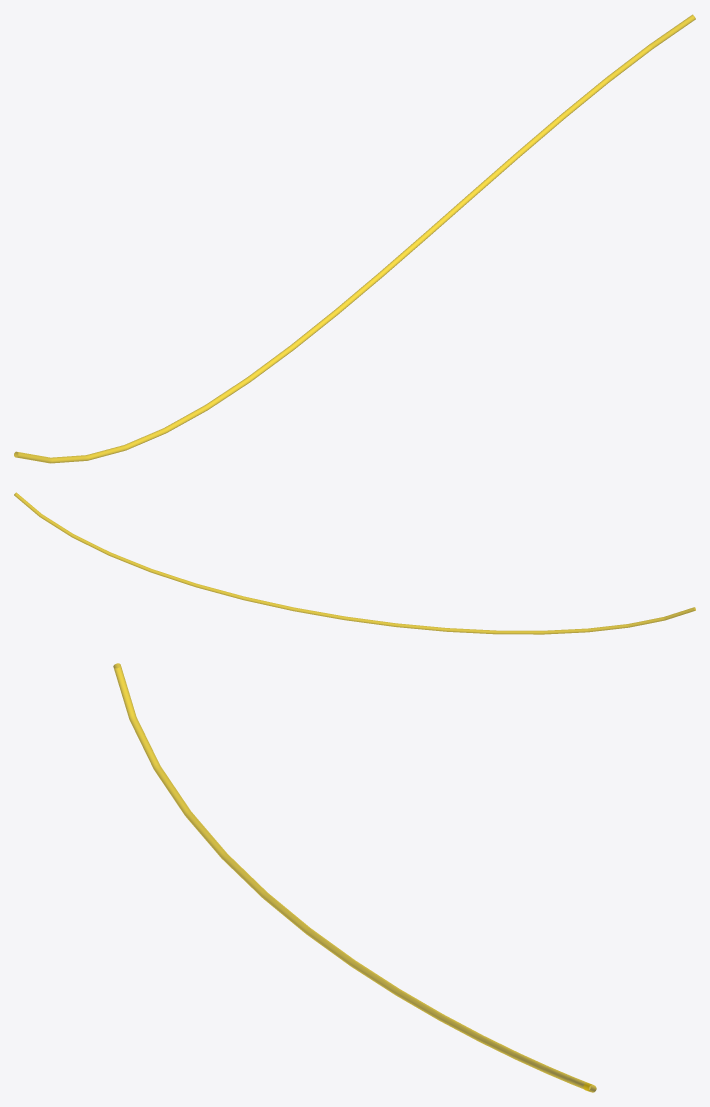
Rendered from Event_17758602_track_21.fbx.
3 views of the same model, one above another, from view 1: azimuth 30°, elevation 25°; view 2: azimuth 150°, elevation 25°; view 3: azimuth 270°, elevation 25° (orthographic). The views are drawn at different scales.
Visible parts, largest first — view 1: Model; view 2: Model; view 3: Model.
Boxes of the visible parts, <box> form: Model: <box>14,14,695,463</box>; Model: <box>14,492,695,634</box>; Model: <box>113,663,596,1092</box>.
Size of the model in its own units: 6.76 by 1.18 by 2.51.
